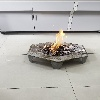fire: (43, 28, 72, 55)
